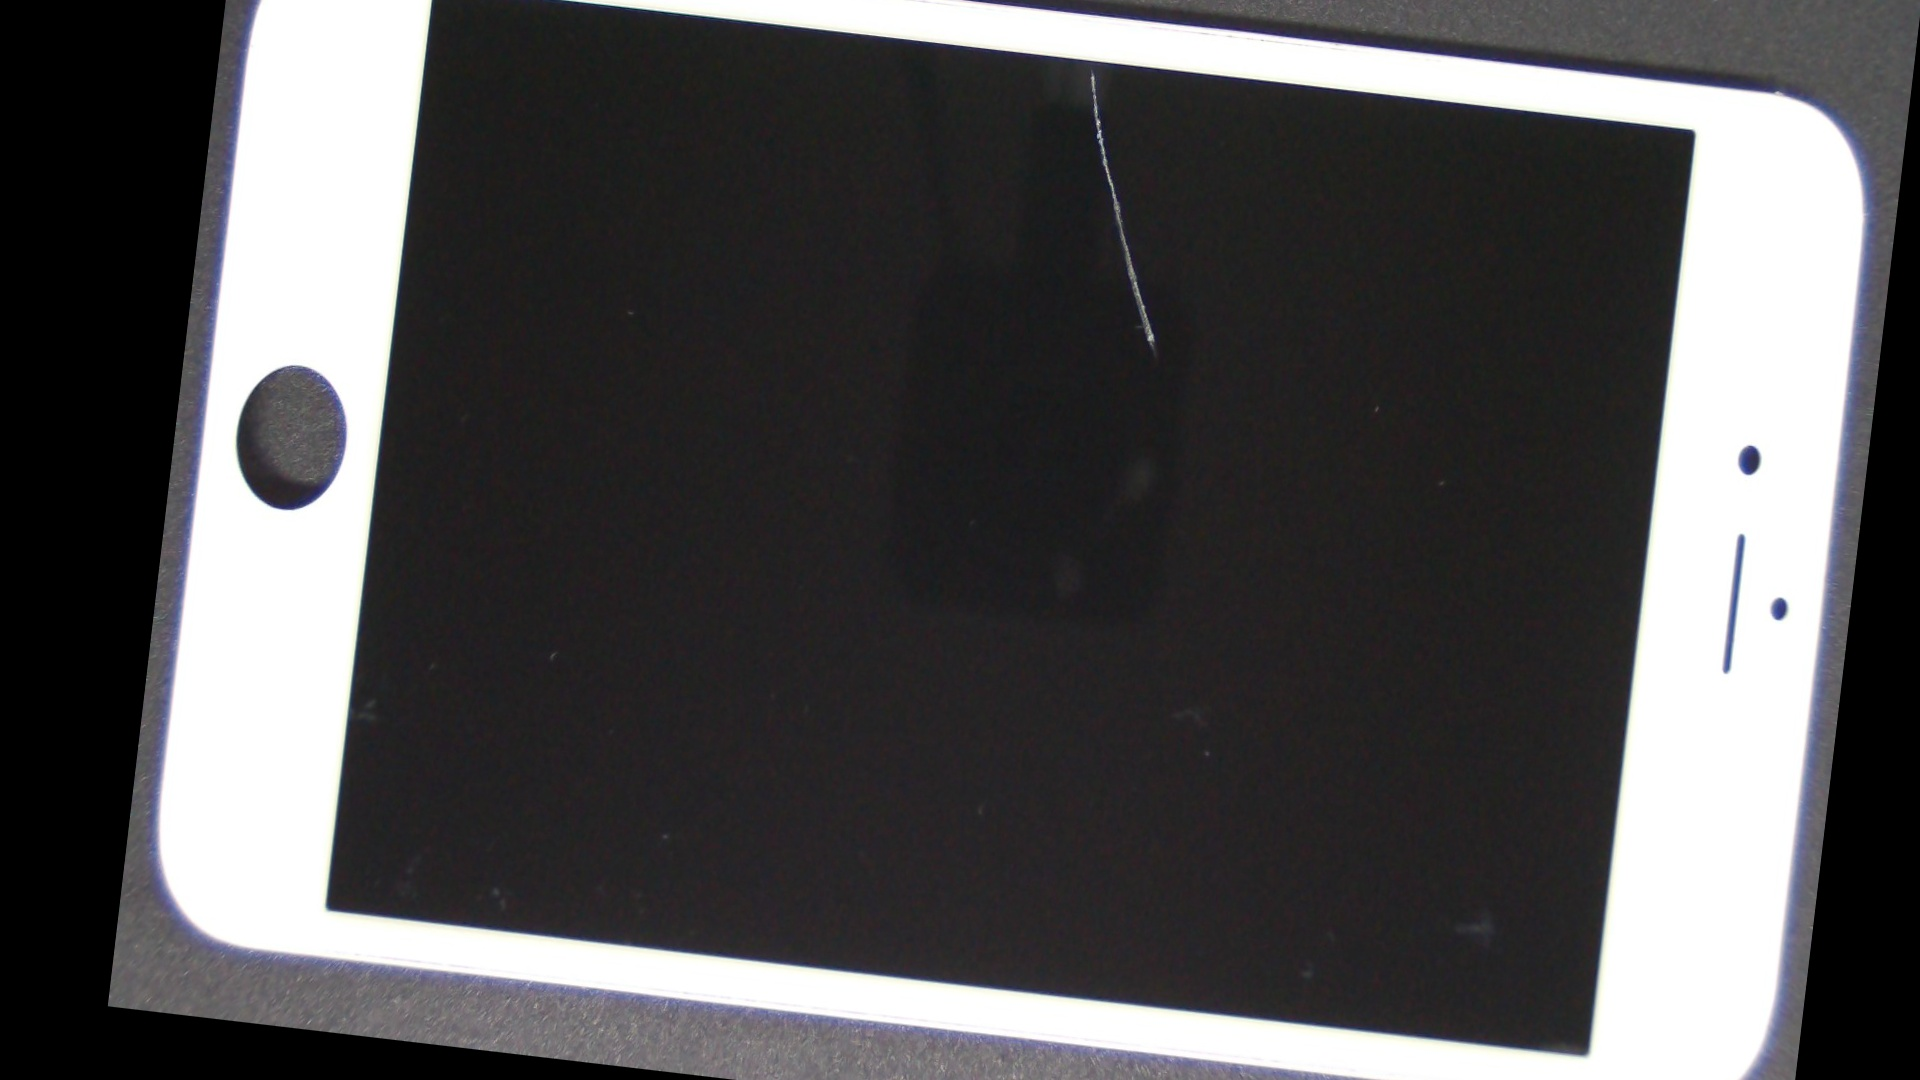oil: (649, 0, 1532, 212)
